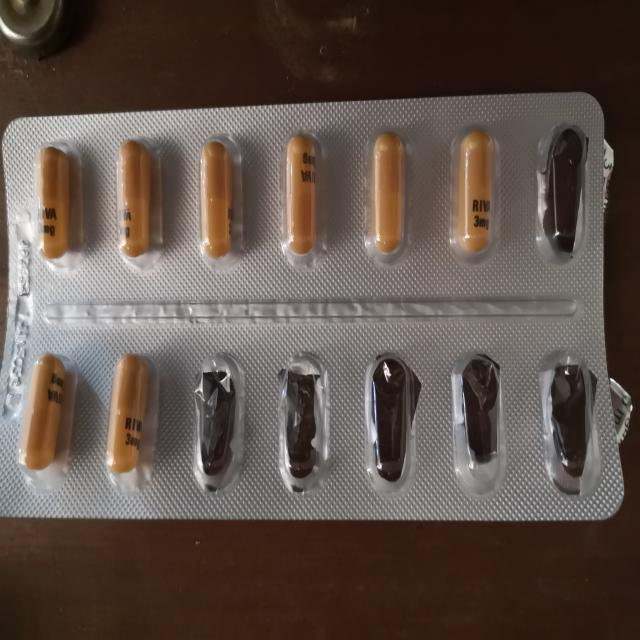Empty: (535, 347, 603, 499), (270, 348, 338, 498), (357, 347, 423, 501), (534, 118, 598, 267), (446, 344, 509, 492), (189, 350, 248, 495)
Pill: (108, 135, 171, 272), (193, 132, 253, 275), (445, 125, 505, 268), (104, 348, 164, 488), (276, 124, 332, 272), (360, 122, 414, 268), (14, 350, 74, 480), (26, 137, 80, 266)
